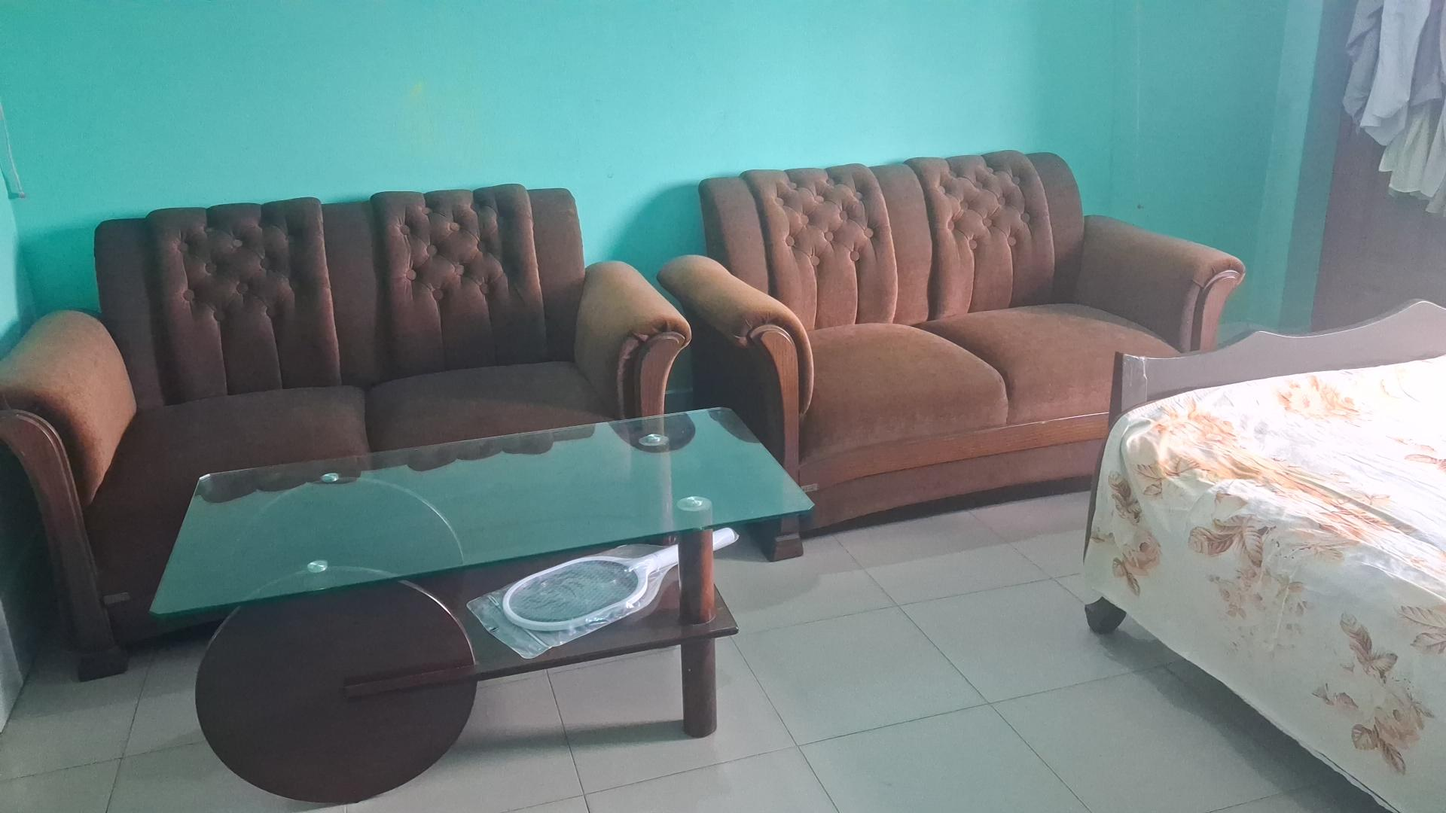Table: (155, 402, 820, 801)
